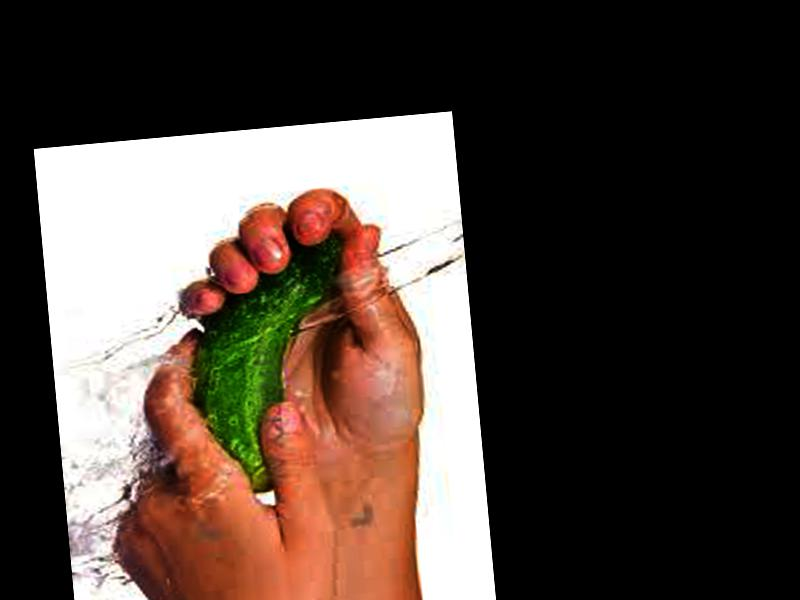Cucumber: (178, 232, 363, 500)
